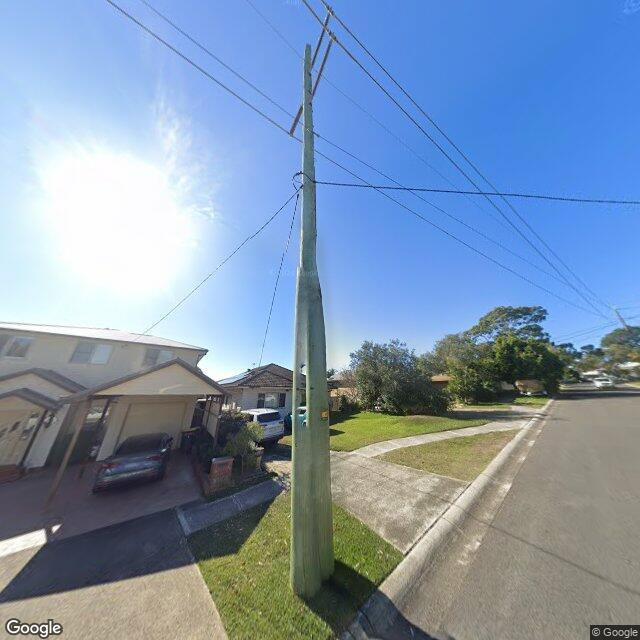HV-transmission: (289, 6, 336, 136)
timber-pole: (289, 43, 335, 599), (614, 308, 631, 333)
